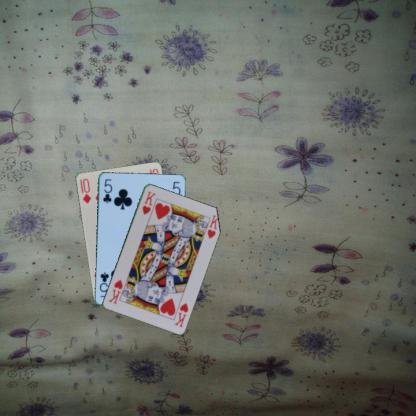10d: (77, 176, 92, 204)
5c: (100, 176, 113, 205)
Kh: (139, 188, 157, 216), (172, 300, 190, 328)
